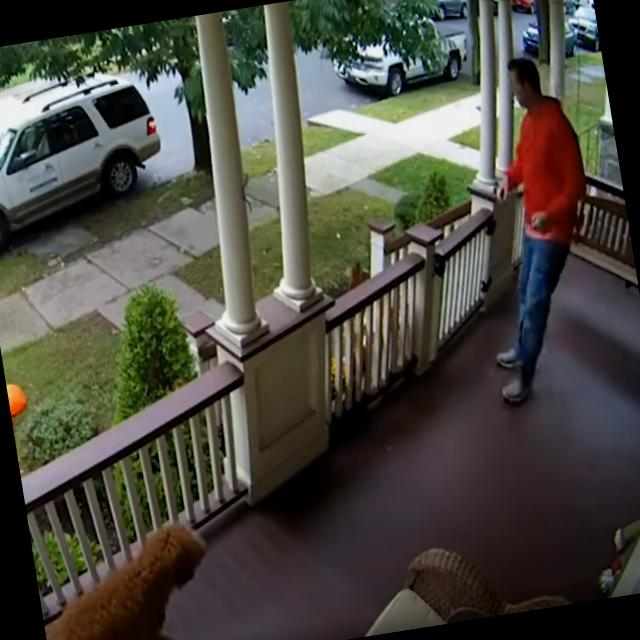person: (450, 51, 620, 406)
